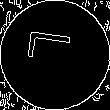L_E: (28, 36, 82, 74)
